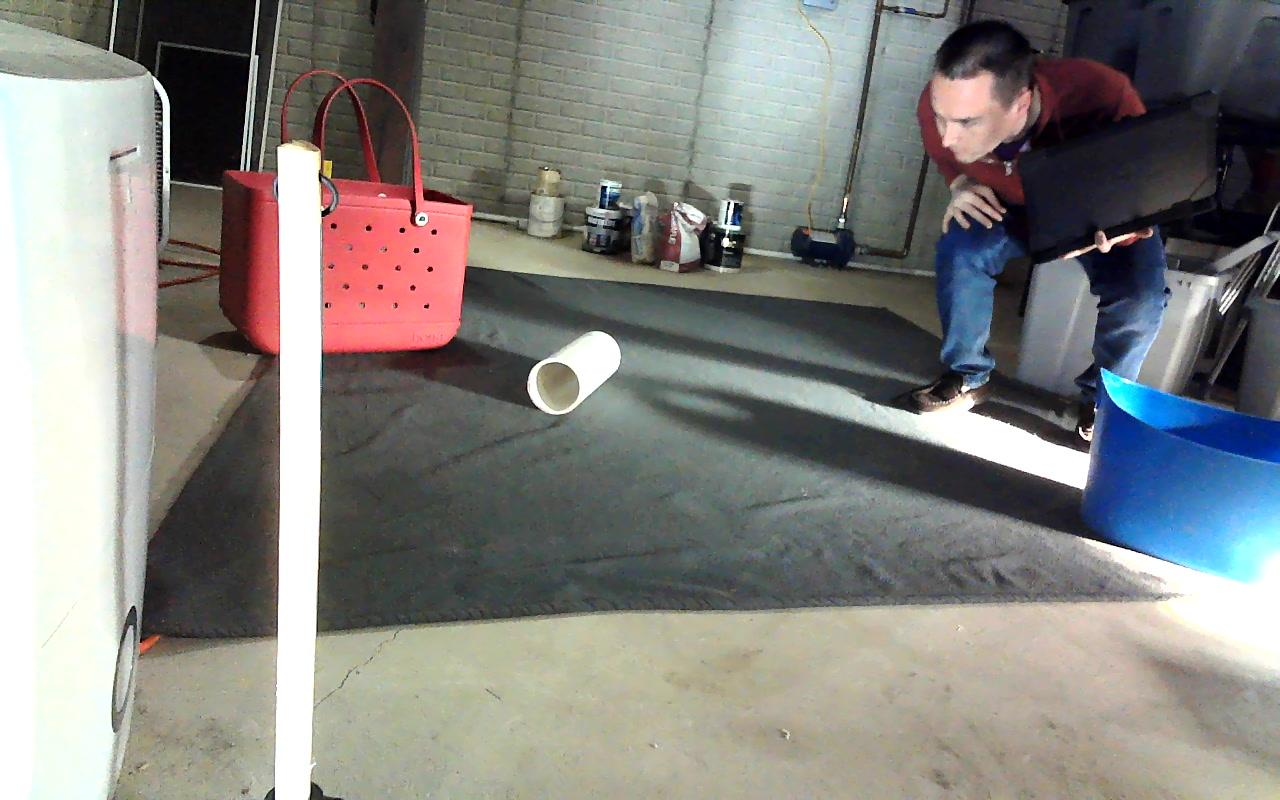coral: (527, 330, 620, 413)
